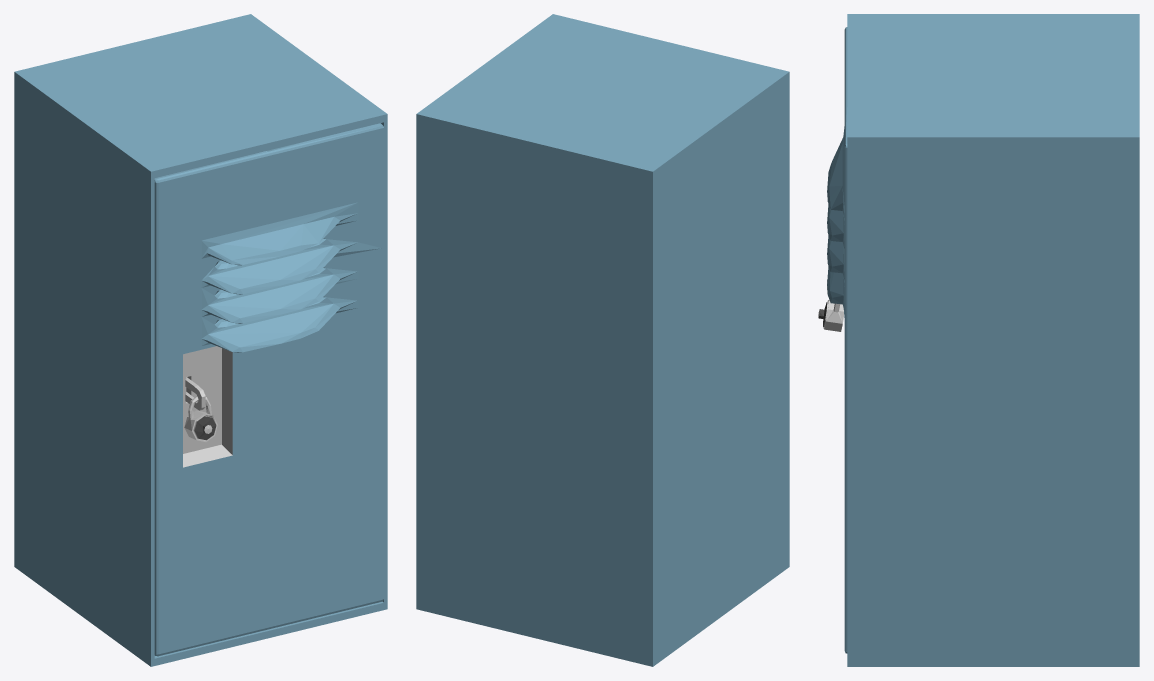
Rendered from prop_locked_locker.glb.
3 renders of one model, left to right at view 1: azimuth 30°, elevation 25°; view 2: azimuth 150°, elevation 25°; view 3: azimuth 270°, elevation 25°, orthographic. The views are drawn at different scales.
Parts seen in each view (by area): view 1: Cube; view 2: Cube; view 3: Cube.
Part boxes in pixels (box(x1,y1,x2,y2)): Cube: box(14, 14, 387, 666); Cube: box(416, 14, 789, 666); Cube: box(818, 14, 1139, 666).
Bounding box in the file's own units: 0.2 × 0.4 × 0.22.
